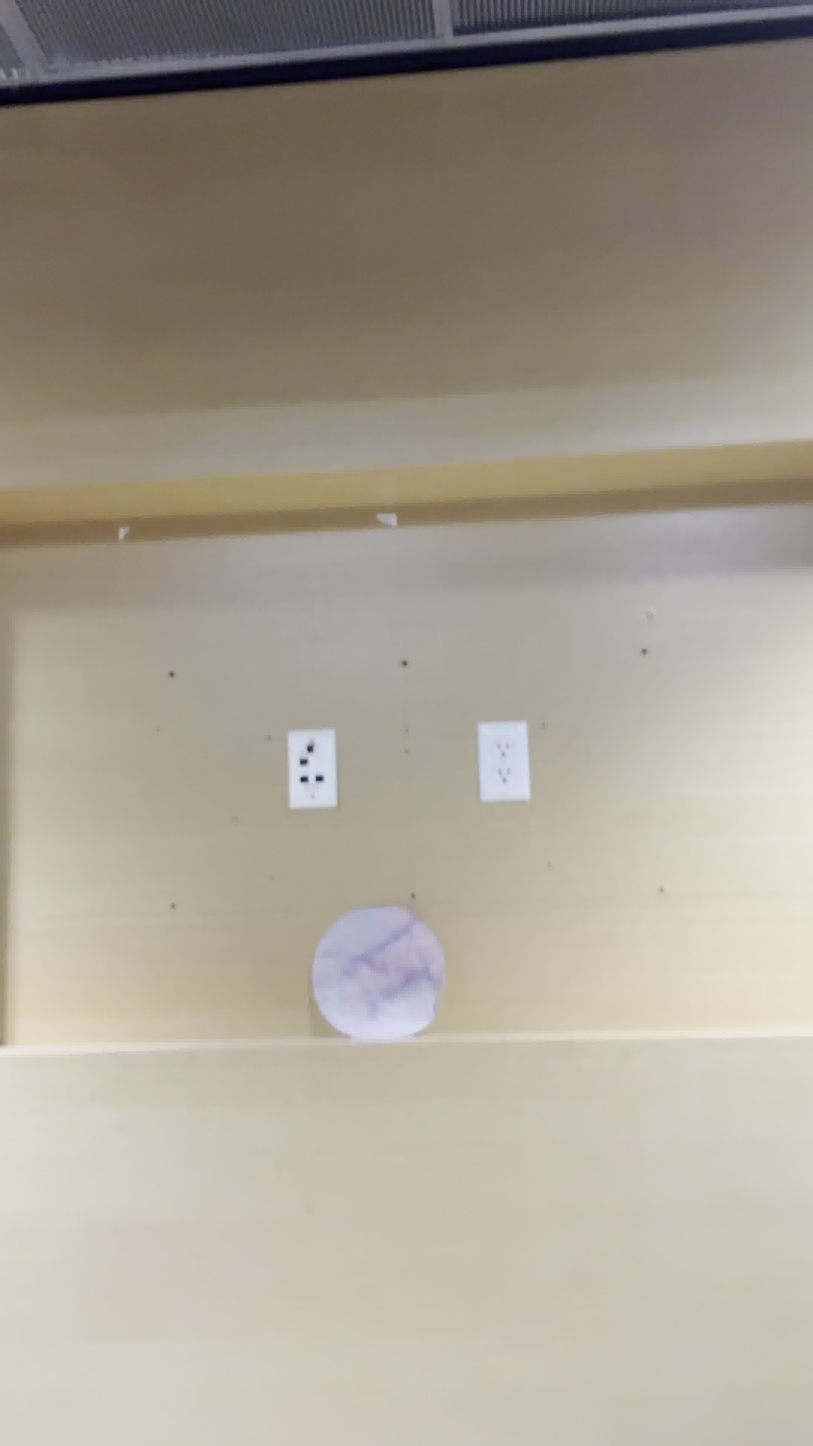Target: (313, 909, 452, 1041)
